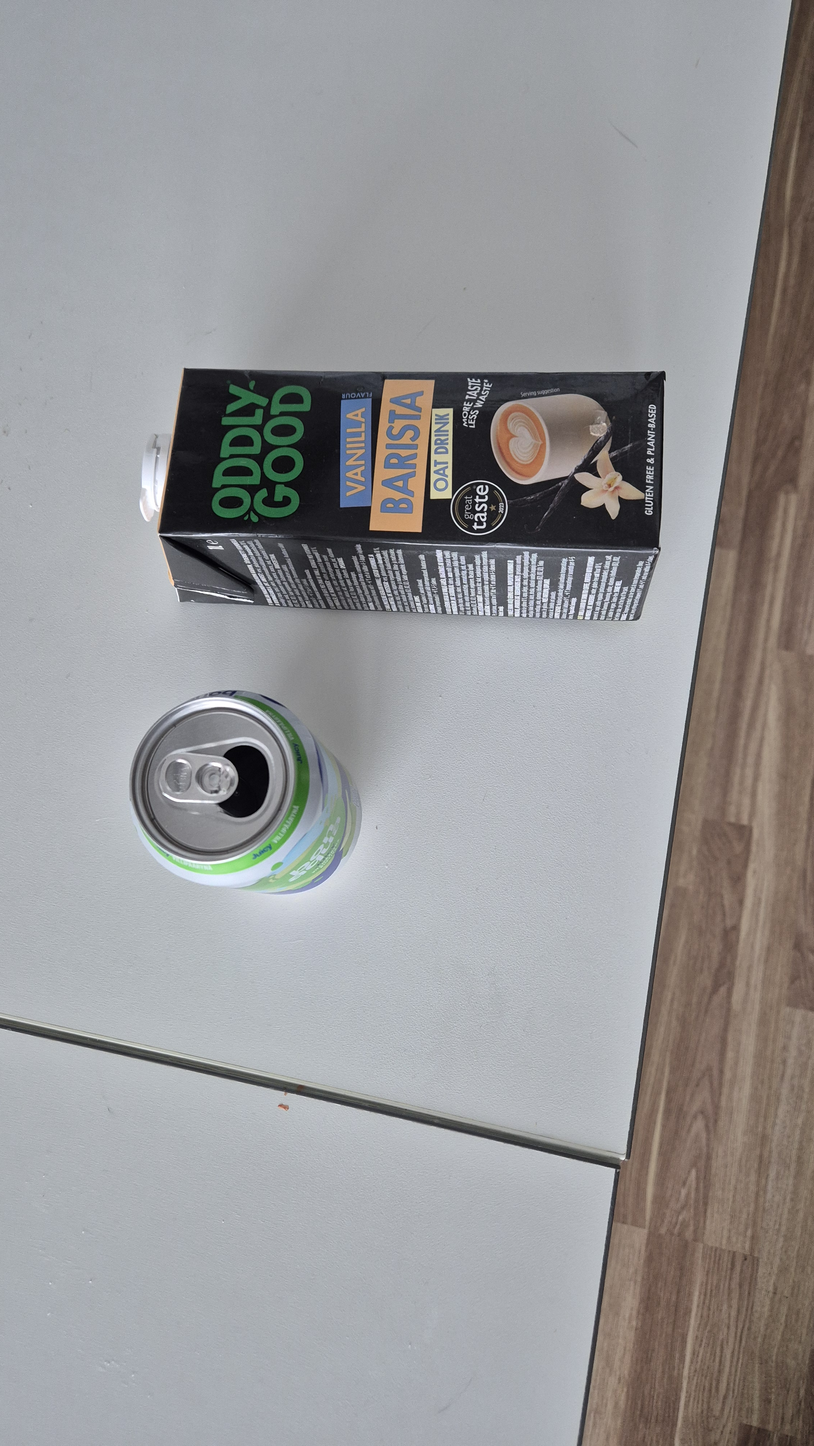Dryckeskartong: (140, 369, 666, 620)
Pantburk: (129, 689, 362, 895)
